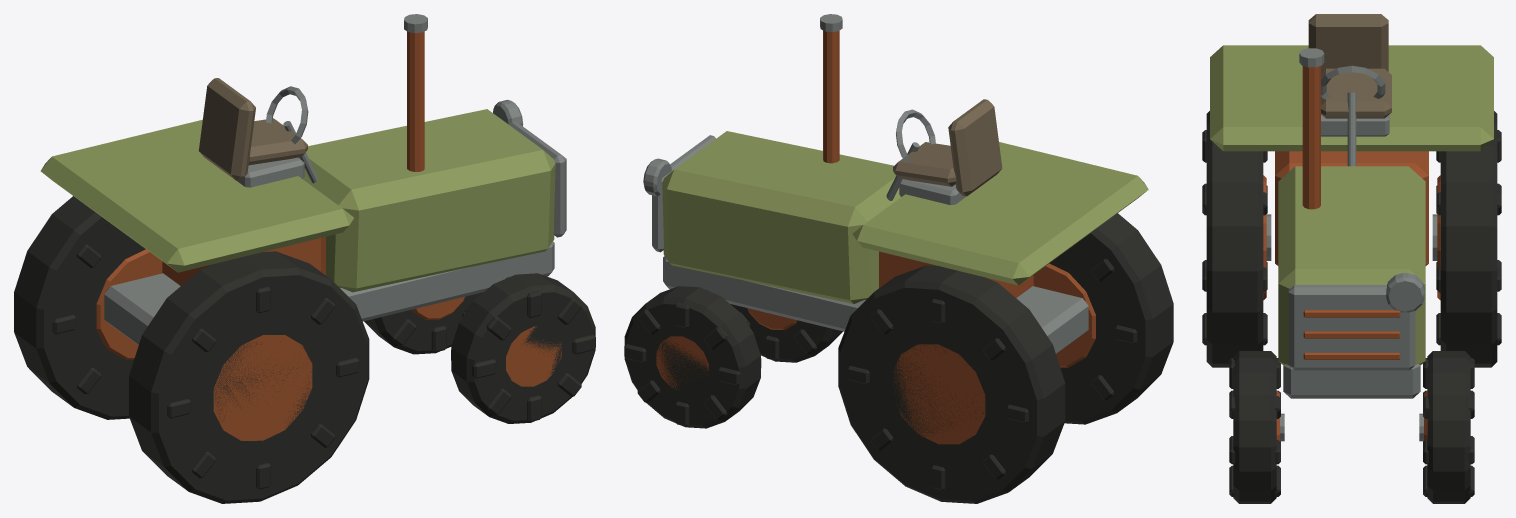
The model's file is tractor_wreck.glb.
3 renders of one model, left to right at view 1: azimuth 30°, elevation 25°; view 2: azimuth 150°, elevation 25°; view 3: azimuth 270°, elevation 25°, orthographic. The views are drawn at different scales.
Parts seen in each view (by area): view 1: tractor_wreck; view 2: tractor_wreck; view 3: tractor_wreck.
Boxes of the visible parts, left/top/right/bottom form: tractor_wreck: left=14, top=14, right=595, bottom=503; tractor_wreck: left=624, top=14, right=1173, bottom=503; tractor_wreck: left=1202, top=14, right=1501, bottom=503.
Size of the model in its own units: 3.23 by 2.67 by 1.79.
